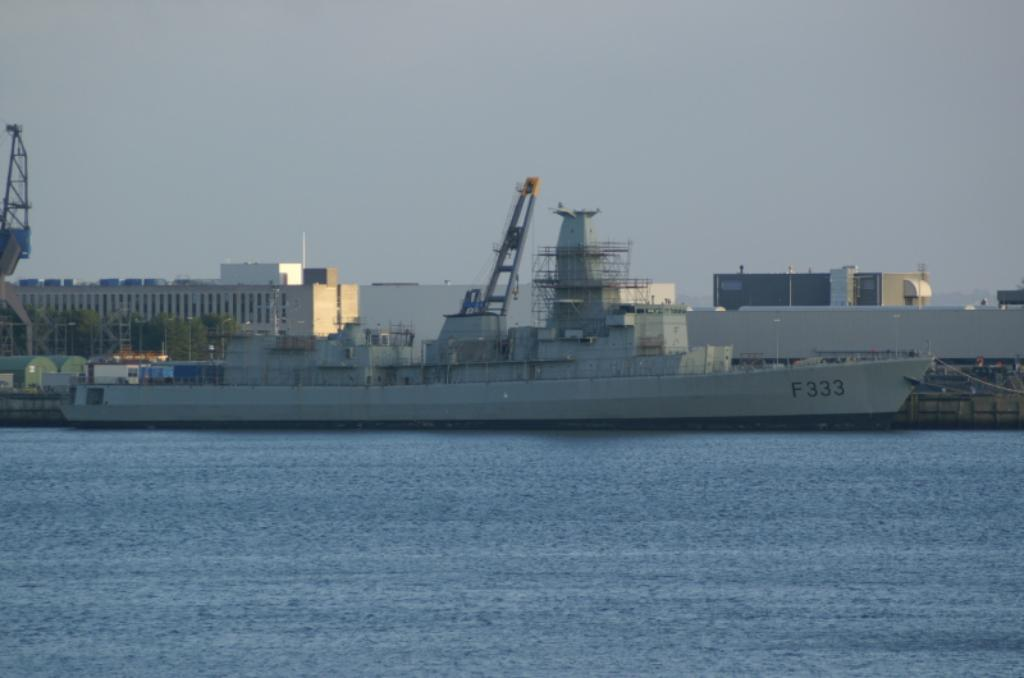Warship: (46, 193, 938, 439)
